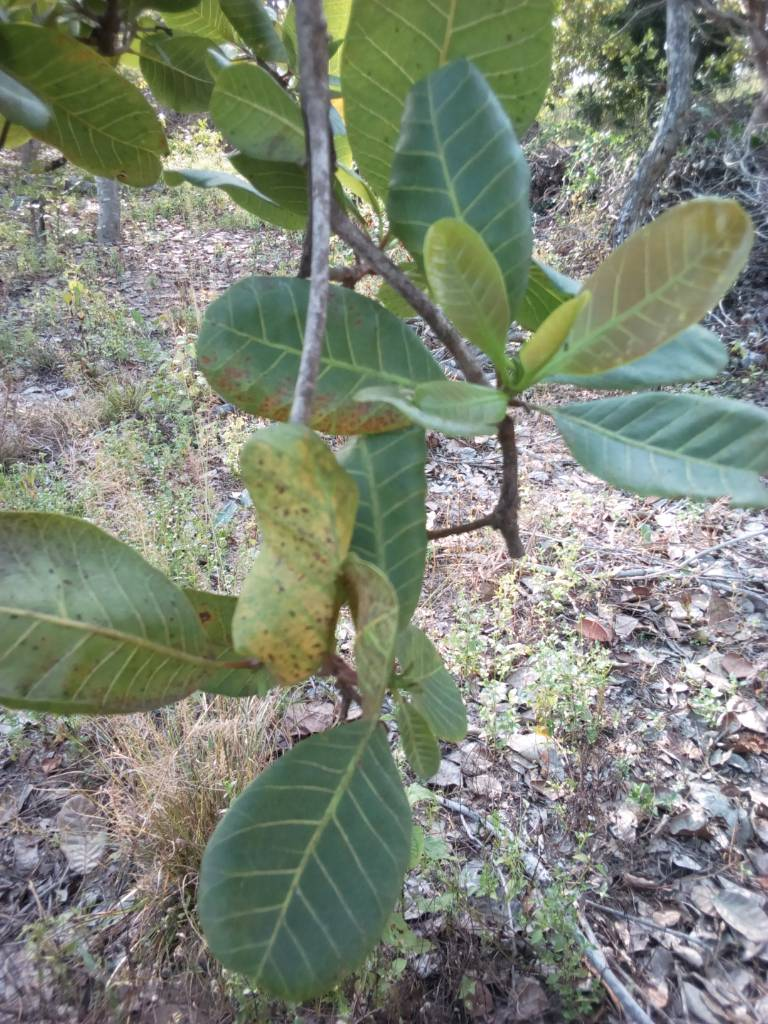Anthracnose: (1, 513, 219, 707), (196, 275, 440, 438), (230, 421, 355, 686)
